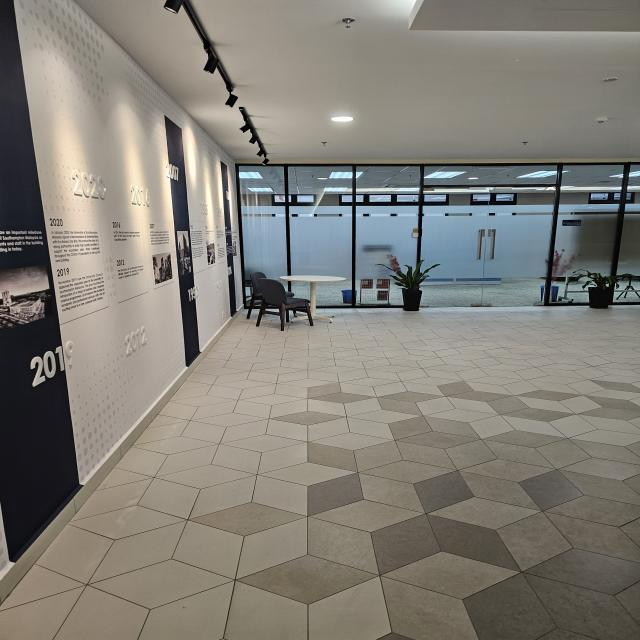door: (413, 186, 551, 310)
footpath: (194, 337, 639, 637)
obstacle: (235, 266, 342, 324), (576, 265, 627, 308), (393, 262, 433, 313)
